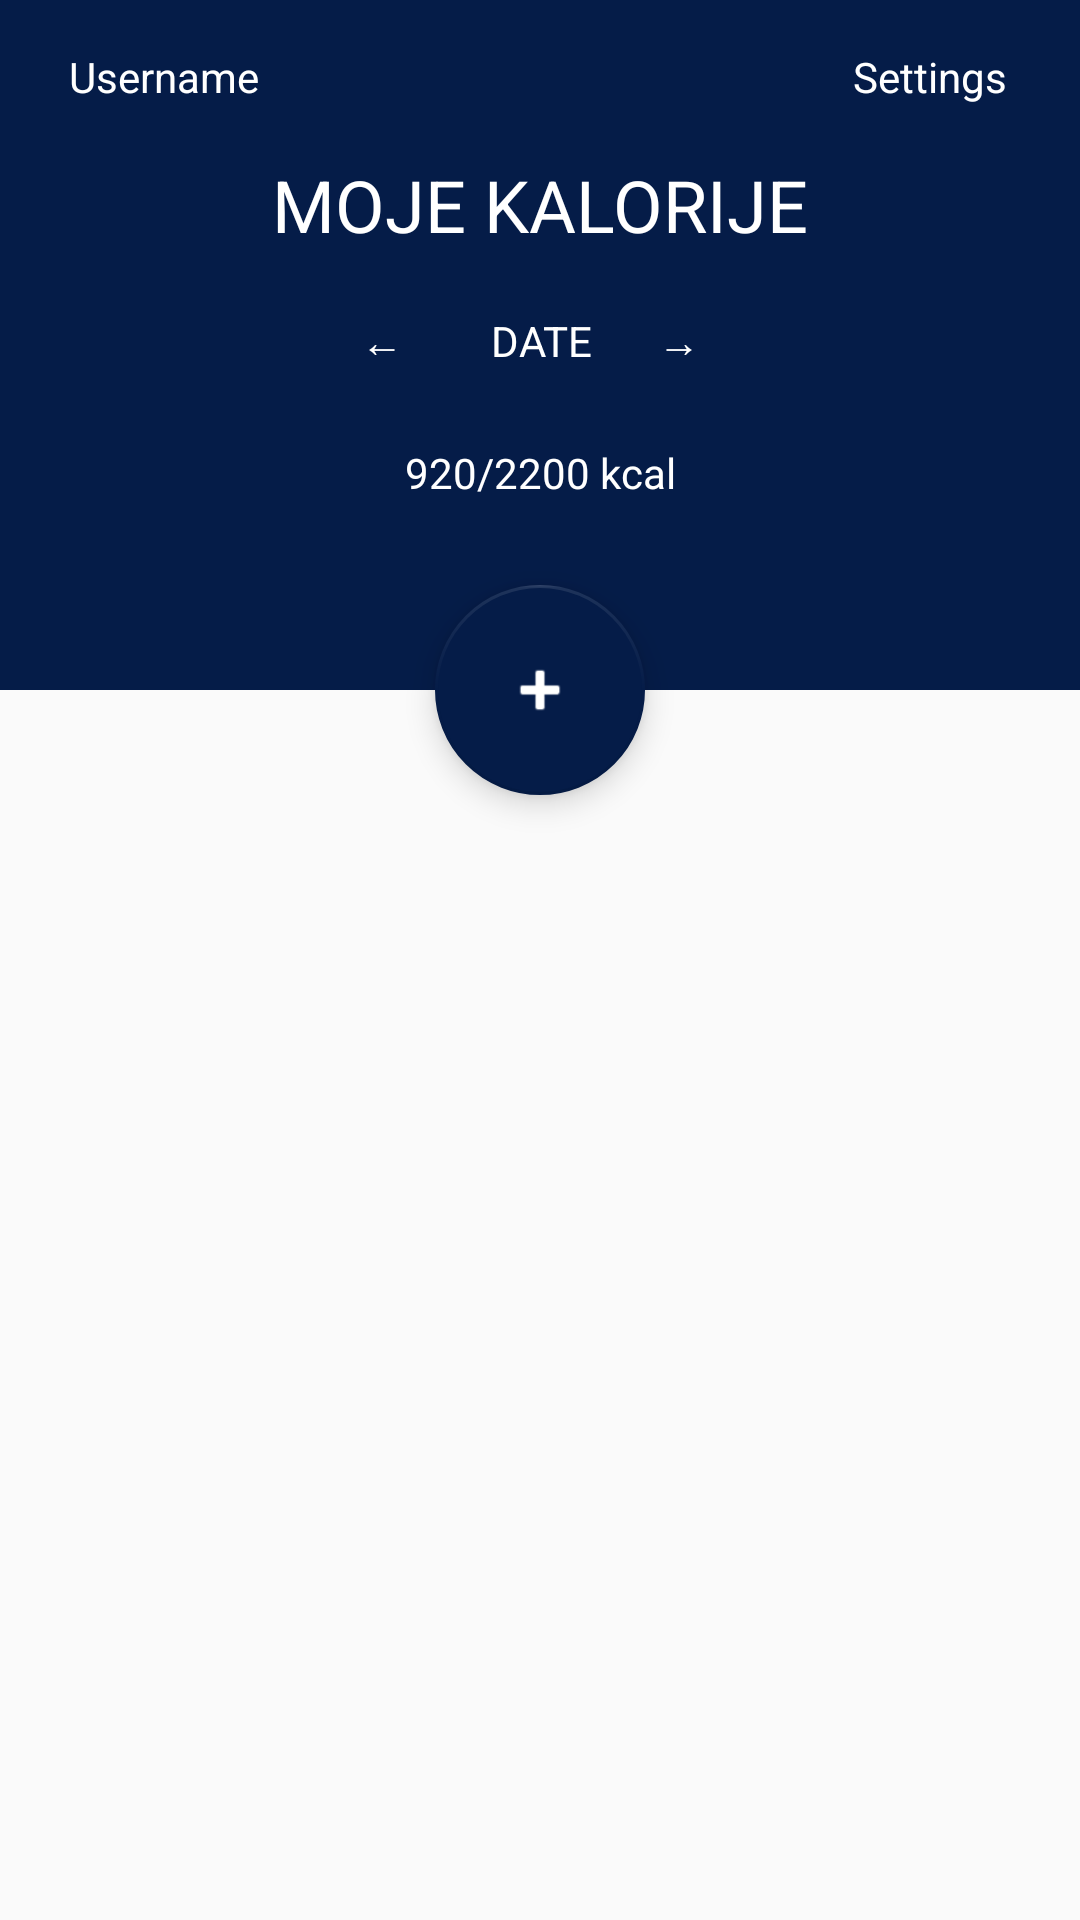

Screen size 1080*1920. Icon name, then its center in pixels as point (x, y):
add: point (540, 690)
